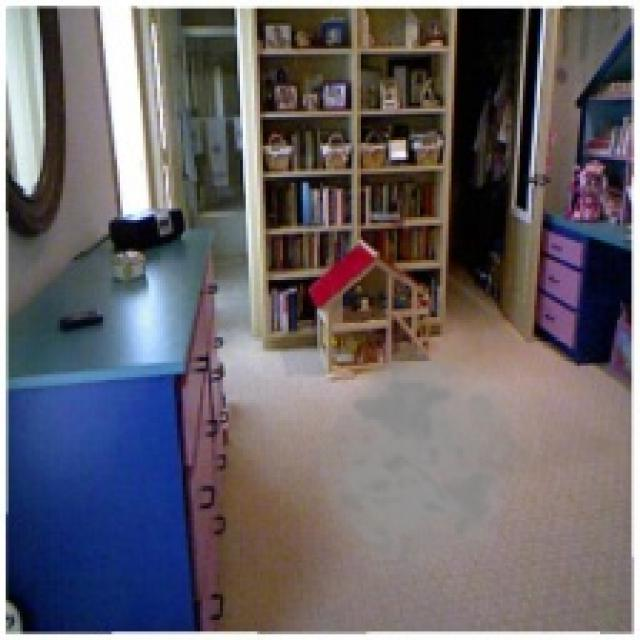smoke: (311, 329, 546, 580)
